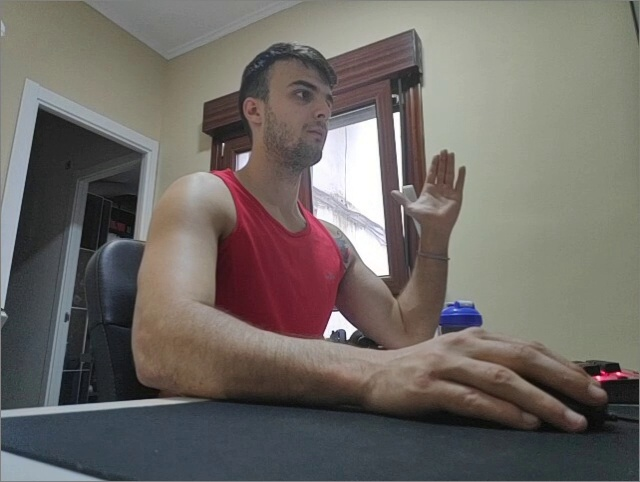Palm: (390, 148, 467, 237)
